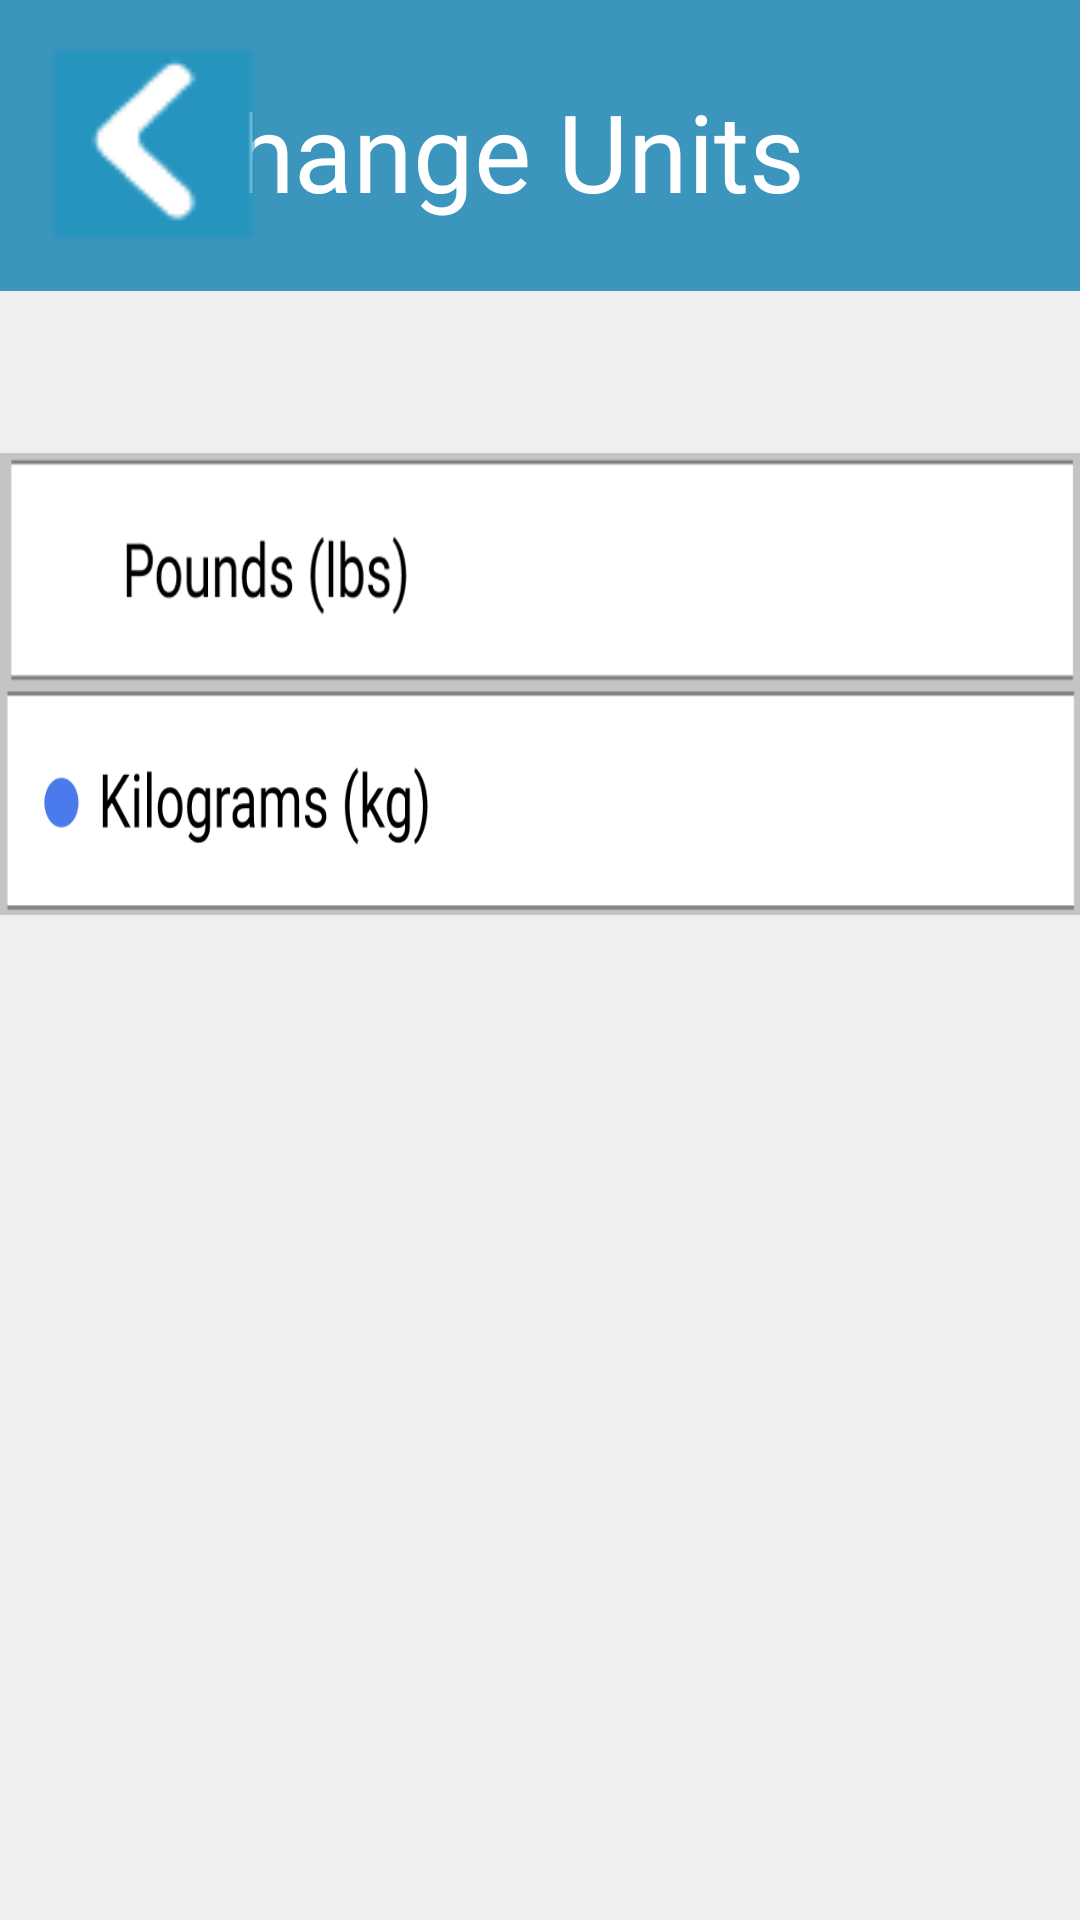

Screen size 1080px x 1920px. Icon name, then its box in pixels as [x1, y1, x2, y2]:
backarrow: [51, 51, 255, 237]
